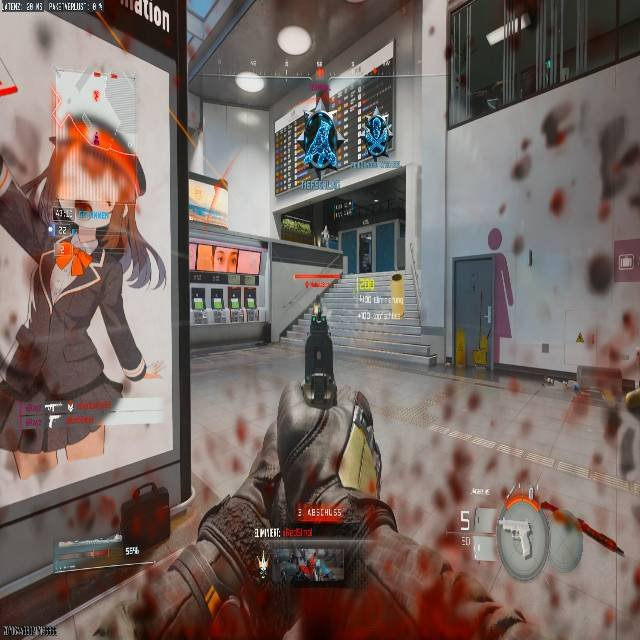head: (541, 99, 578, 148)
player: (0, 0, 156, 435)
